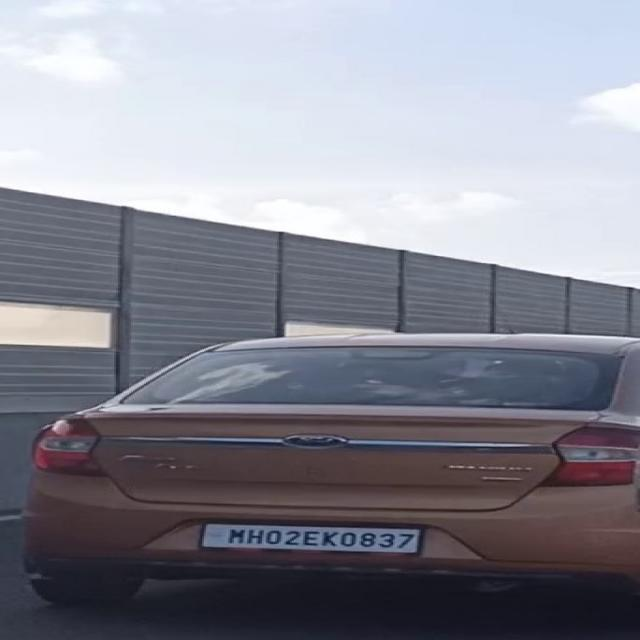license_plate: (192, 517, 428, 557)
